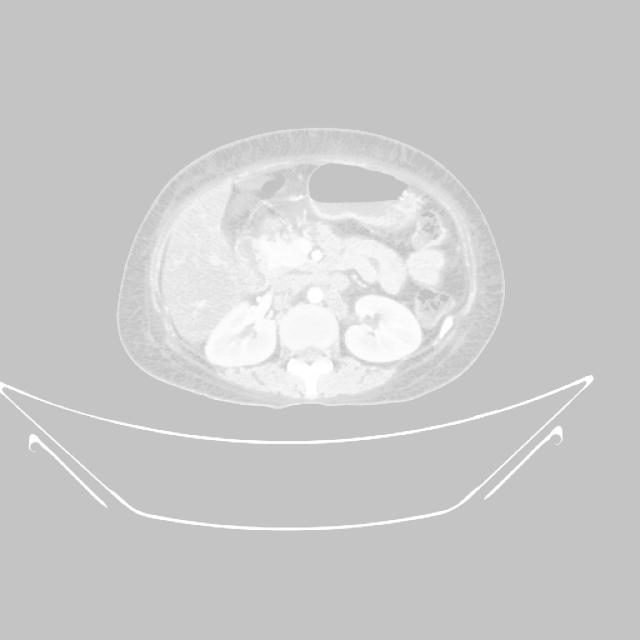NORMAL: (105, 102, 544, 412)
